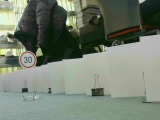speed_30: (17, 50, 37, 70)
